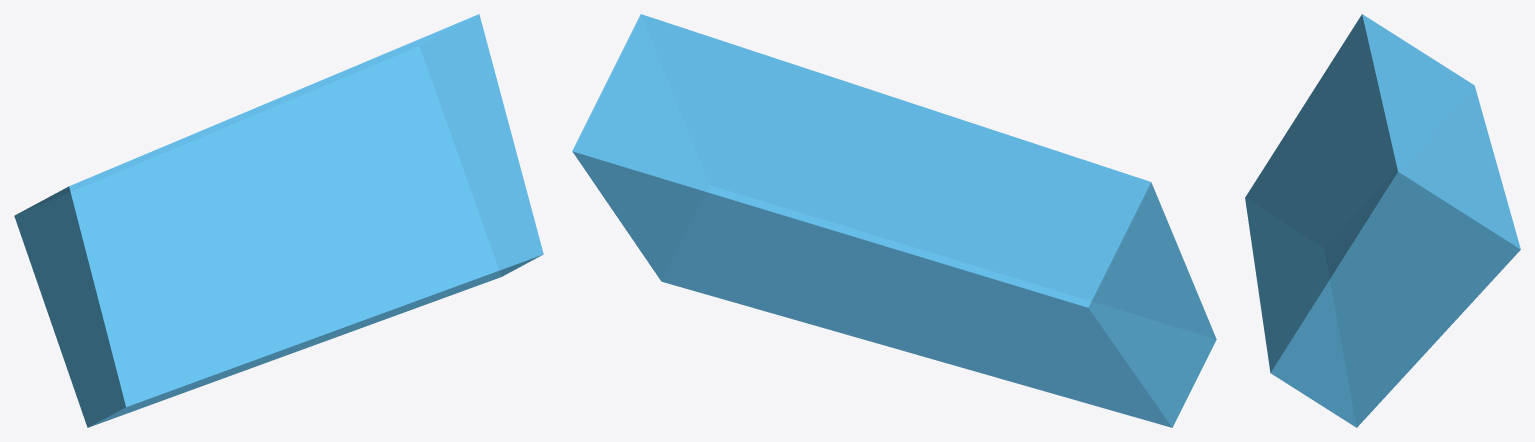
Rendered from Event_421364160_HErechit_63.fbx.
3 views of the same model, side by side, from view 1: azimuth 30°, elevation 25°; view 2: azimuth 150°, elevation 25°; view 3: azimuth 270°, elevation 25° (orthographic). The views are drawn at different scales.
Parts seen in each view (by area): view 1: Model; view 2: Model; view 3: Model.
Boxes of the visible parts, <box> form: Model: <box>14,14,543,427</box>; Model: <box>572,14,1216,427</box>; Model: <box>1245,14,1520,427</box>.
Size of the model in its own units: 1.02 by 0.6397 by 0.5507.
